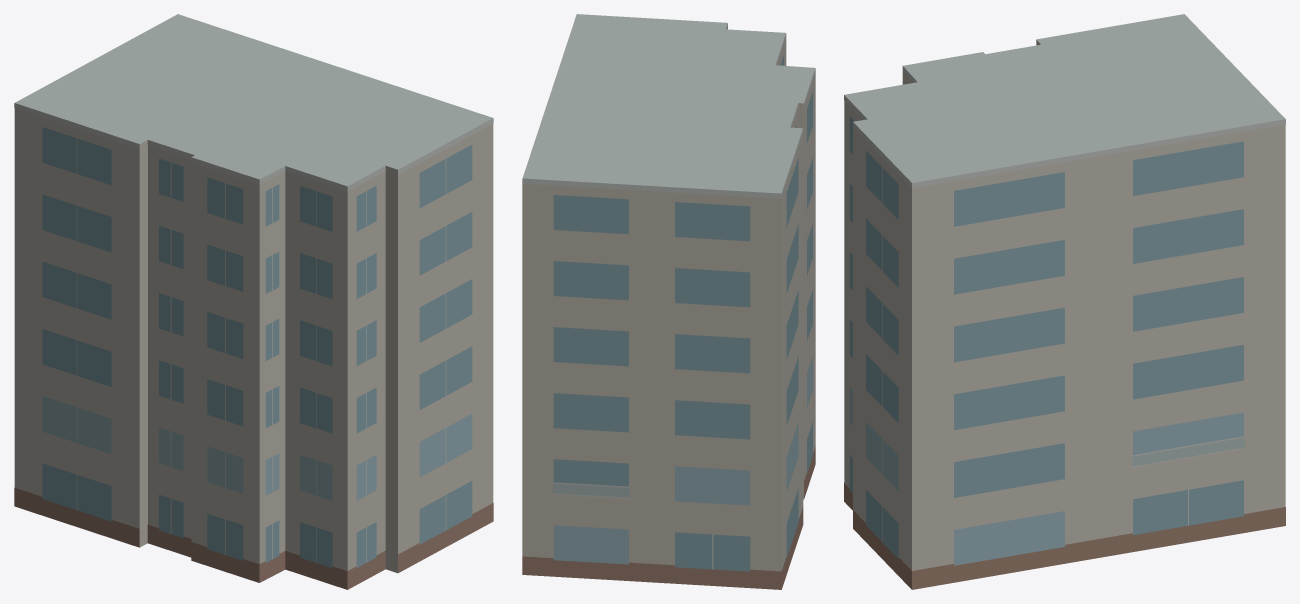
The model's file is survey-upis-32949009.glb.
The picture shows the model from 3 angles, left to right: view 1: azimuth 30°, elevation 25°; view 2: azimuth 150°, elevation 25°; view 3: azimuth 270°, elevation 25°; orthographic projection. The views are drawn at different scales.
Visible parts, largest first — view 1: survey-upis-32949009.tmp; view 2: survey-upis-32949009.tmp; view 3: survey-upis-32949009.tmp.
Boxes of the visible parts, bbox=[...] form: survey-upis-32949009.tmp: bbox=[14, 14, 493, 589]; survey-upis-32949009.tmp: bbox=[522, 14, 815, 589]; survey-upis-32949009.tmp: bbox=[844, 14, 1285, 589].
Size of the model in its own units: 16.32 by 18.3 by 18.02.
